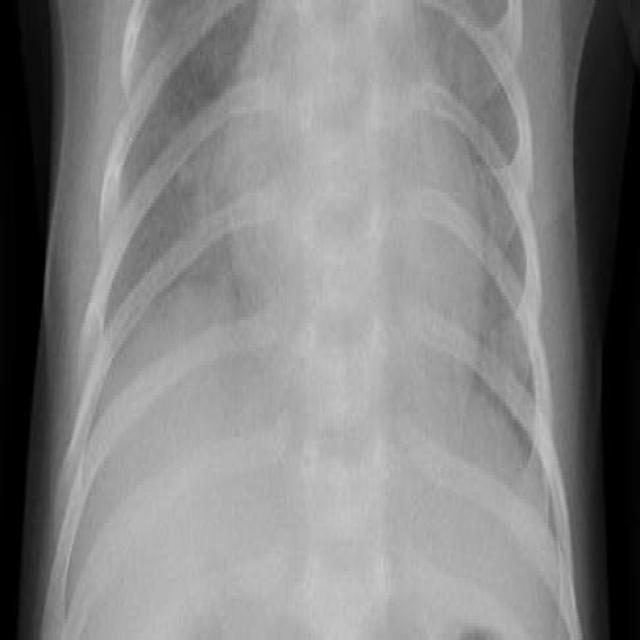high-pneumonia: (89, 200, 265, 497)
low-pneumonia: (465, 360, 552, 534)
